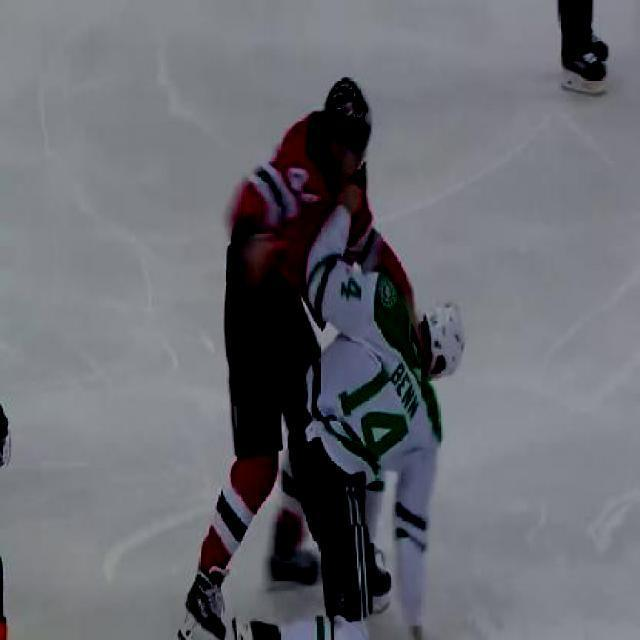fight: (214, 68, 470, 640)
